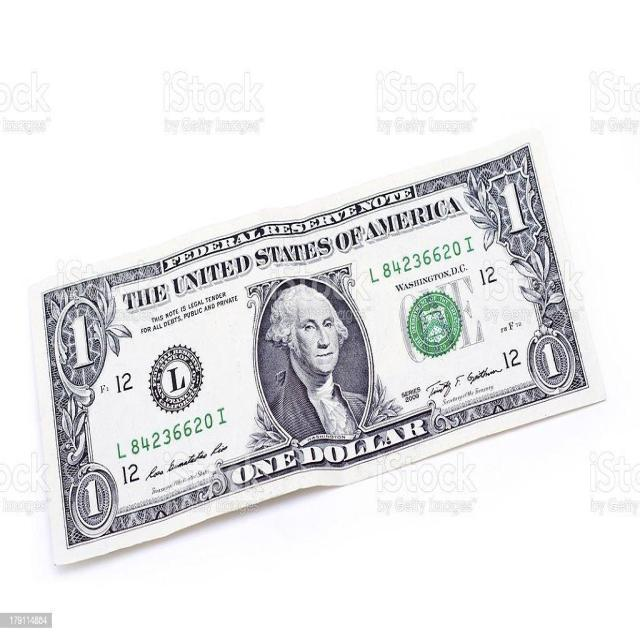1-Front: (41, 121, 592, 582)
